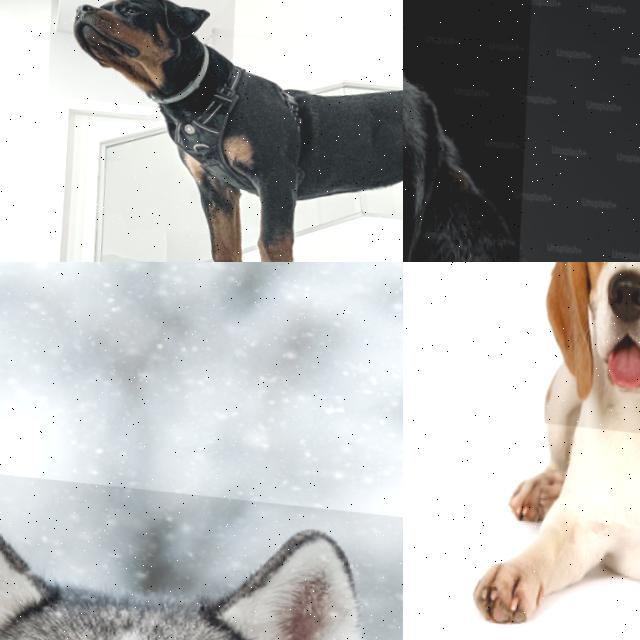beagle: (520, 262, 640, 443)
husky: (0, 457, 403, 640)
rottweiler: (403, 0, 542, 262), (43, 0, 237, 112)
